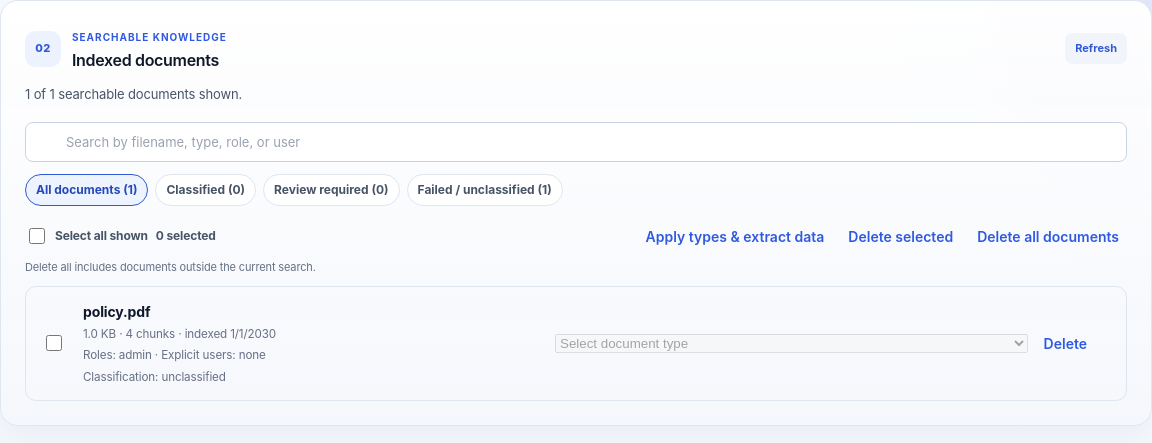
Scenario: confirms and deletes every organization document in one request
Check: the text "policy.pdf" is shown, box [83,303,150,320]
Click the button "Delete all documents". click: point(1048, 236)
box: [969,218,1127,255]
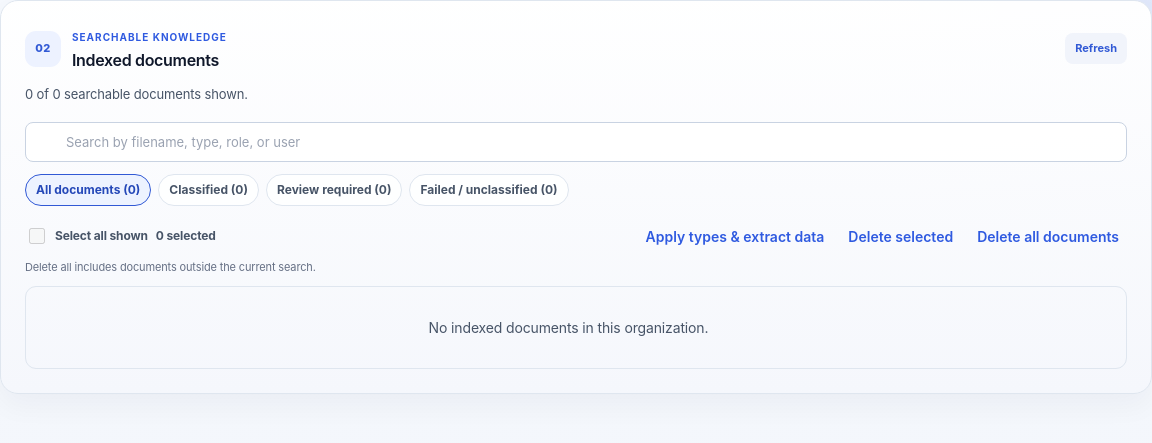
Check: the text "No indexed documents in this organization." is shown, box [429,319,708,336]
